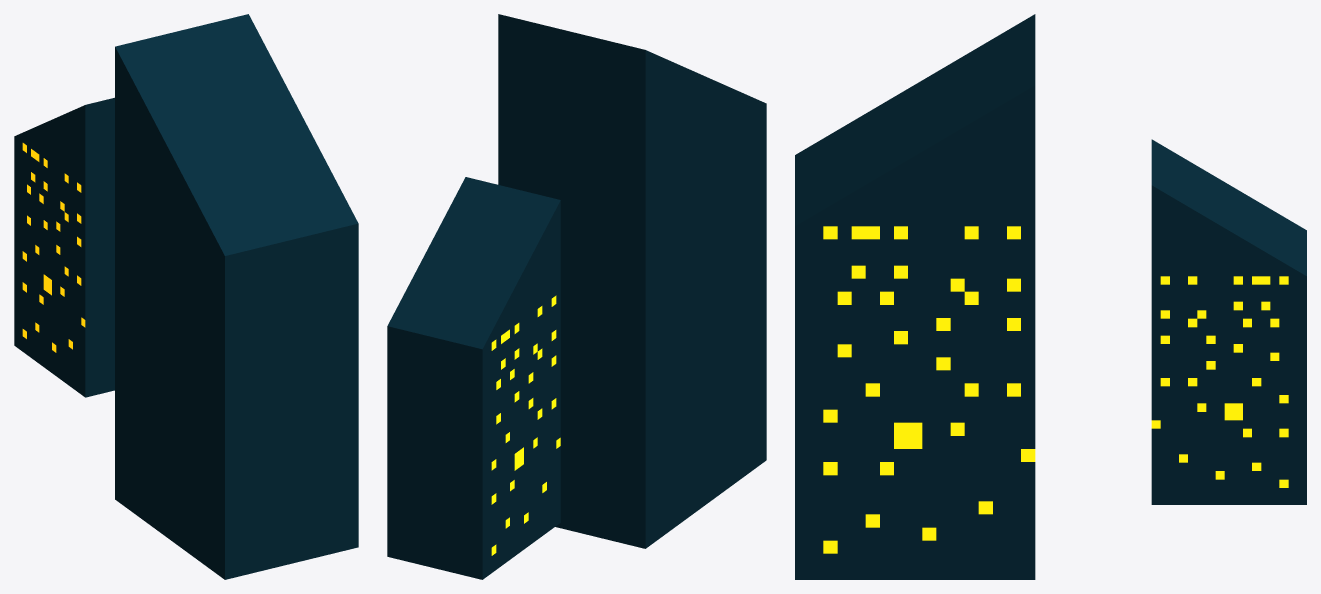
The model's file is house7.glb.
The picture shows the model from 3 angles, left to right: view 1: azimuth 30°, elevation 25°; view 2: azimuth 150°, elevation 25°; view 3: azimuth 270°, elevation 25°; orthographic projection. The views are drawn at different scales.
Parts seen in each view (by area): view 1: 立方体, 立方体.001; view 2: 立方体, 立方体.001; view 3: 立方体, 立方体.001.
Part boxes in pixels (left/top/right/bottom): 立方体: left=115, top=14, right=358, bottom=579; 立方体.001: left=14, top=97, right=114, bottom=397; 立方体: left=498, top=14, right=766, bottom=548; 立方体.001: left=387, top=177, right=560, bottom=579; 立方体: left=795, top=14, right=1035, bottom=579; 立方体.001: left=1151, top=139, right=1306, bottom=504.
Bounding box in the file's own units: 20 × 64.79 × 60.73.
